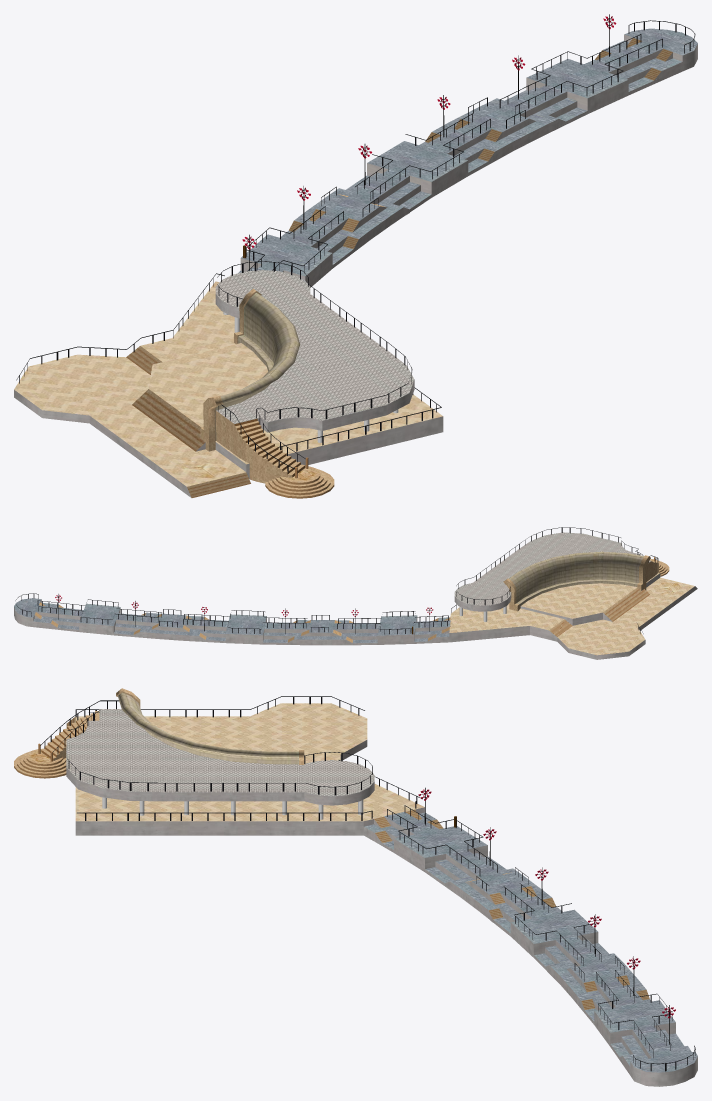
The picture shows the model from 3 angles, top to bottom: view 1: azimuth 30°, elevation 25°; view 2: azimuth 150°, elevation 25°; view 3: azimuth 270°, elevation 25°; orthographic projection. The views are drawn at different scales.
Visible parts, largest first — view 1: 5aab94dff586401e884e490e.003; view 2: 5aab94dff586401e884e490e.003; view 3: 5aab94dff586401e884e490e.003.
Part boxes in pixels (<box>): 5aab94dff586401e884e490e.003: <box>14,14,697,498</box>; 5aab94dff586401e884e490e.003: <box>14,527,697,659</box>; 5aab94dff586401e884e490e.003: <box>14,688,697,1086</box>.
Size of the model in its own units: 114 by 8.22 by 87.33.
Materials: 1 (1 with a texture image).
